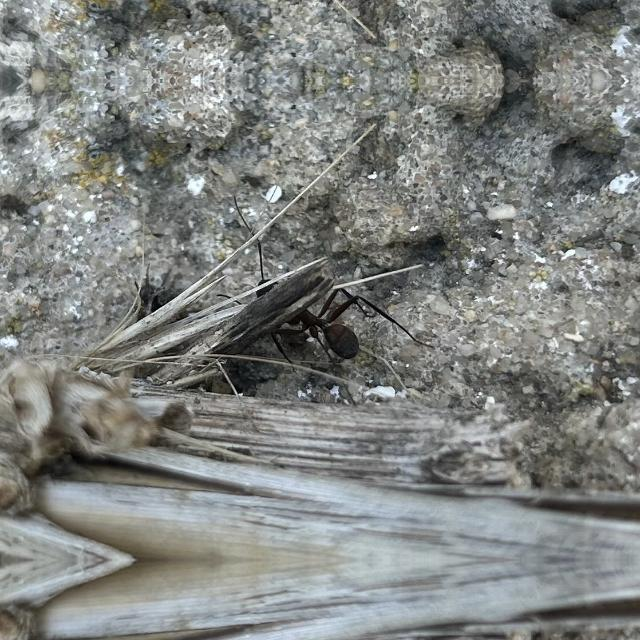Camponotus: (242, 252, 402, 364)
